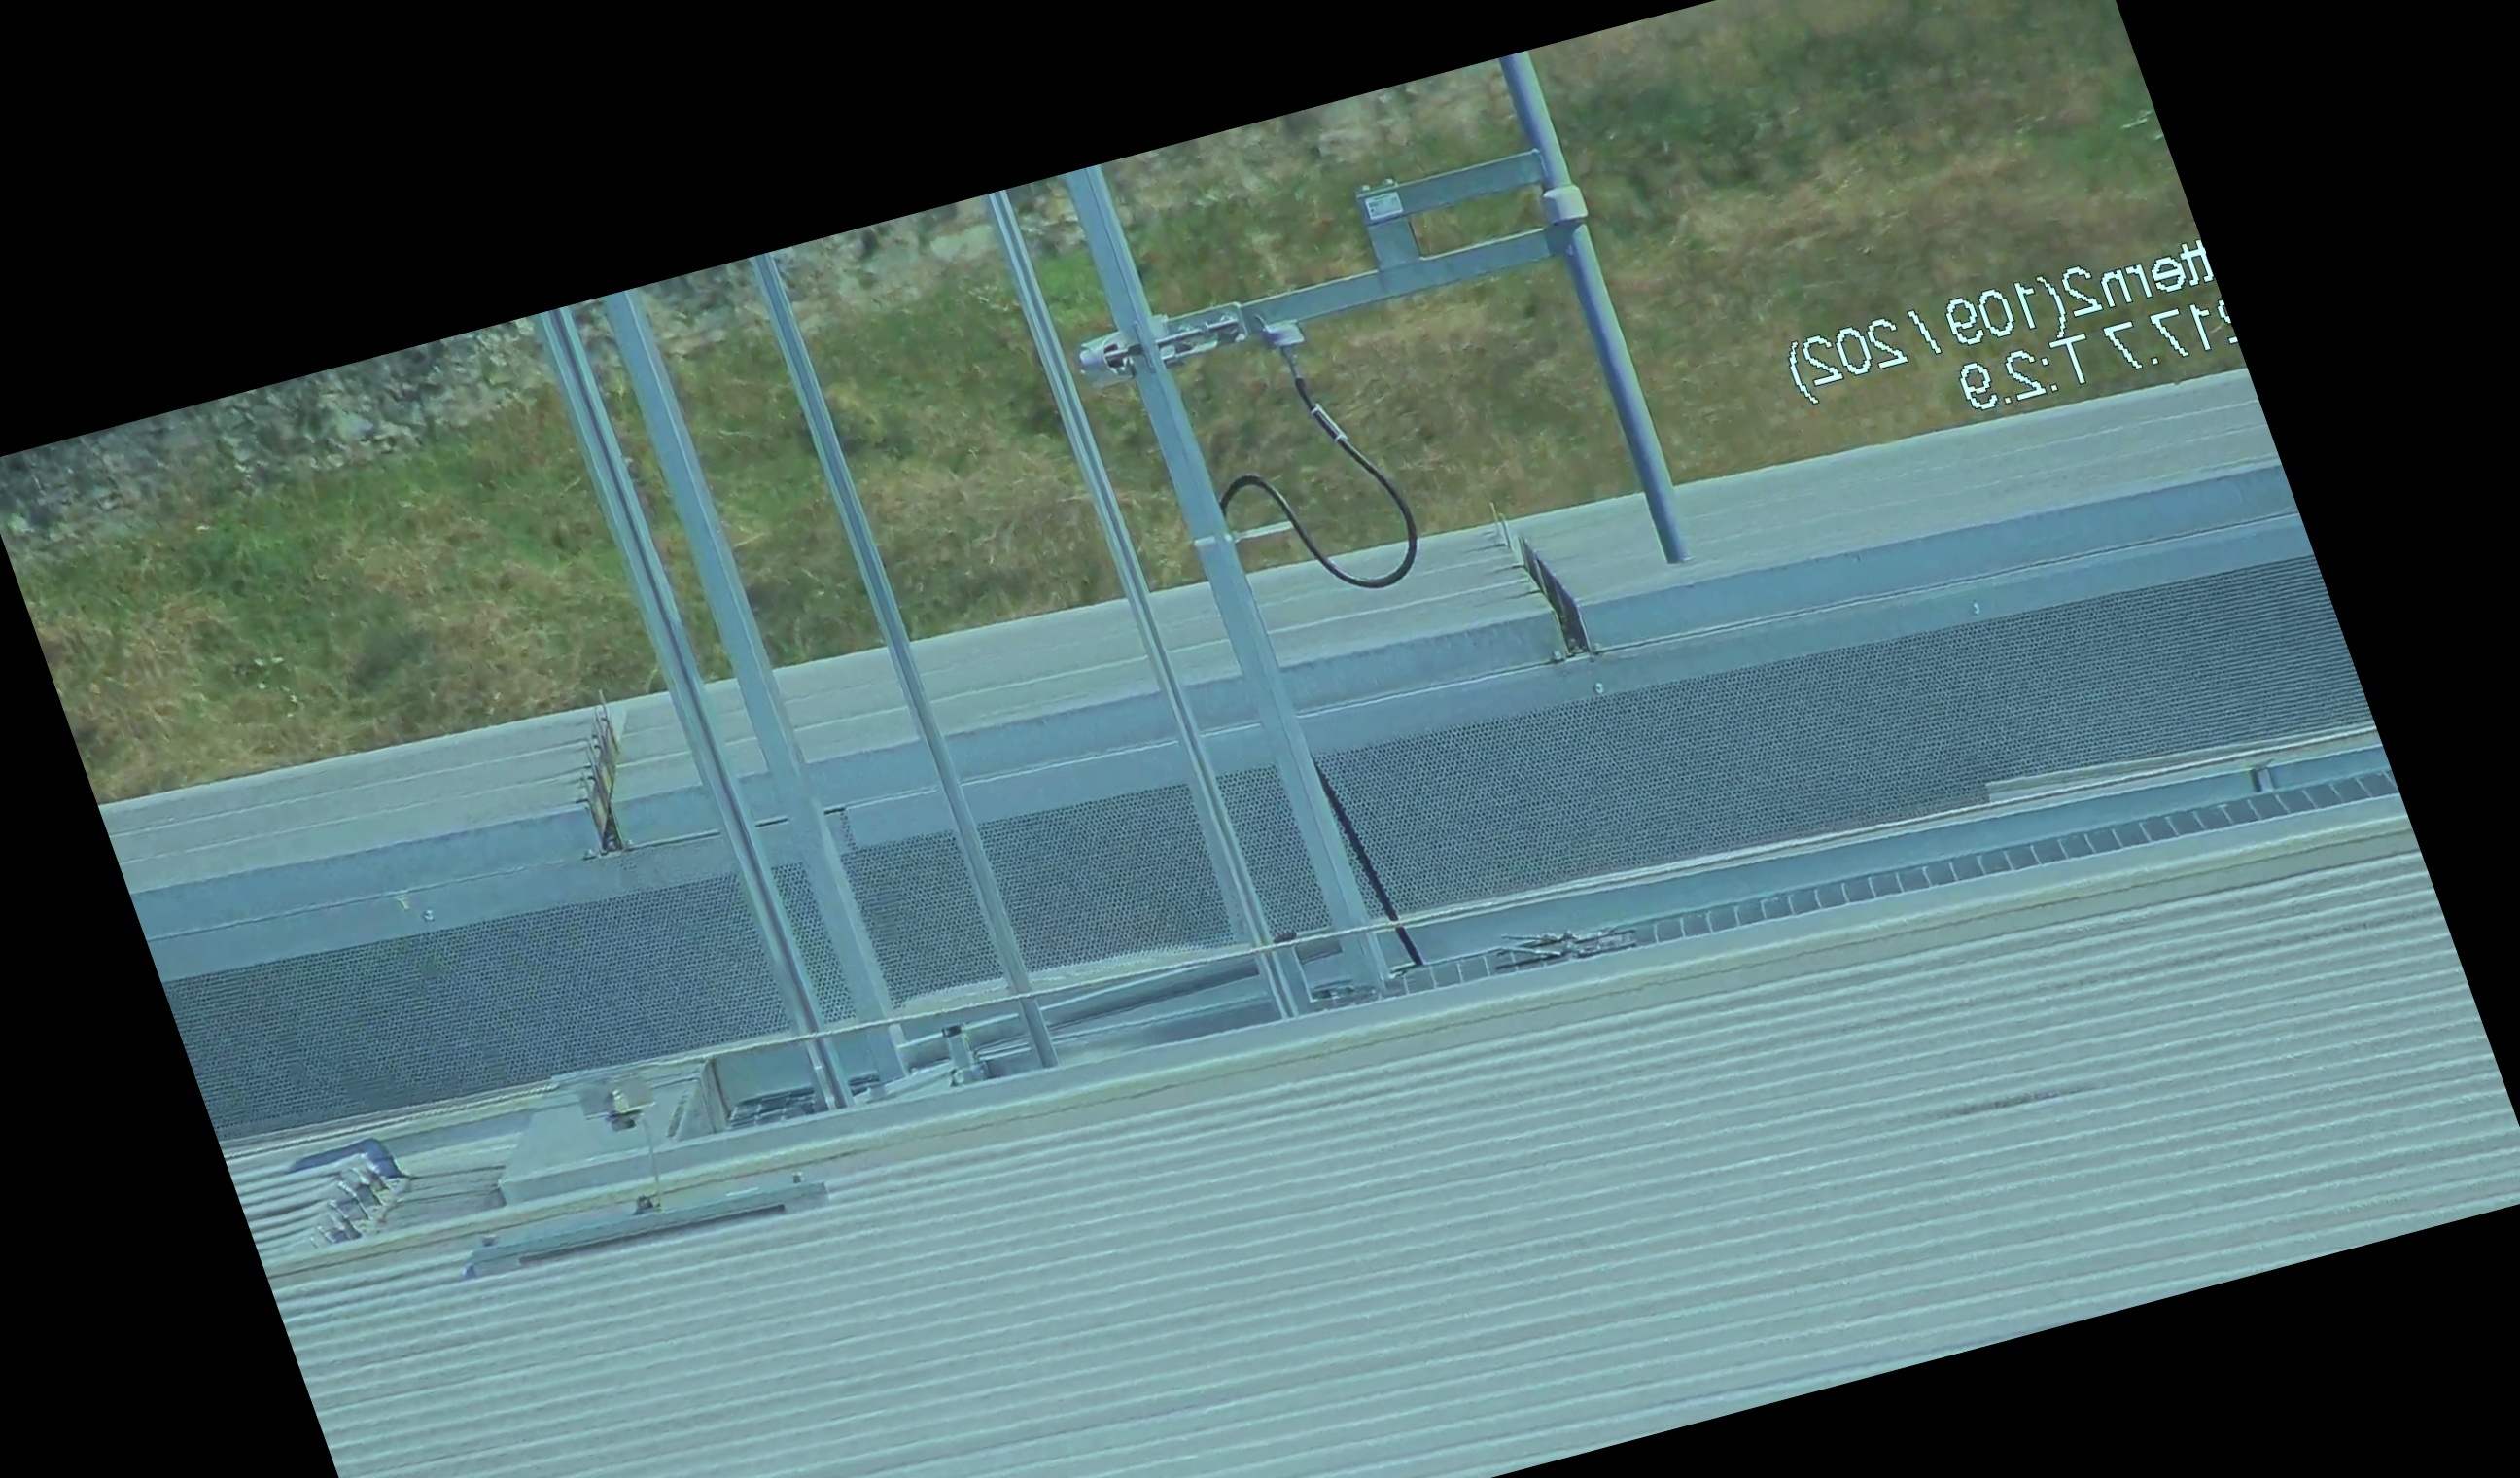Other: (1488, 500, 1614, 676)
